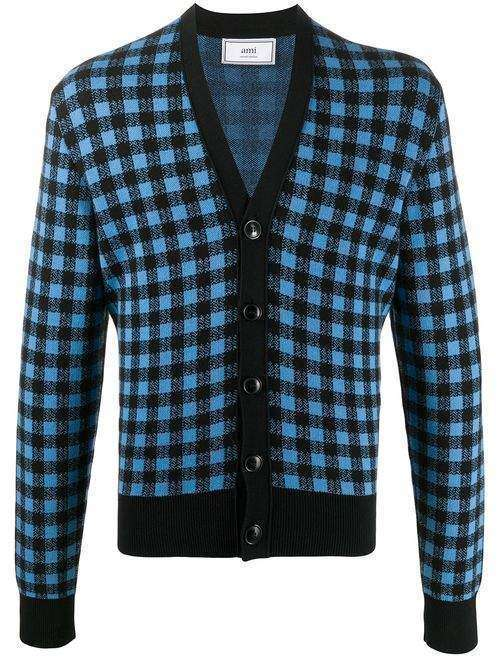squared: (11, 5, 487, 609)
